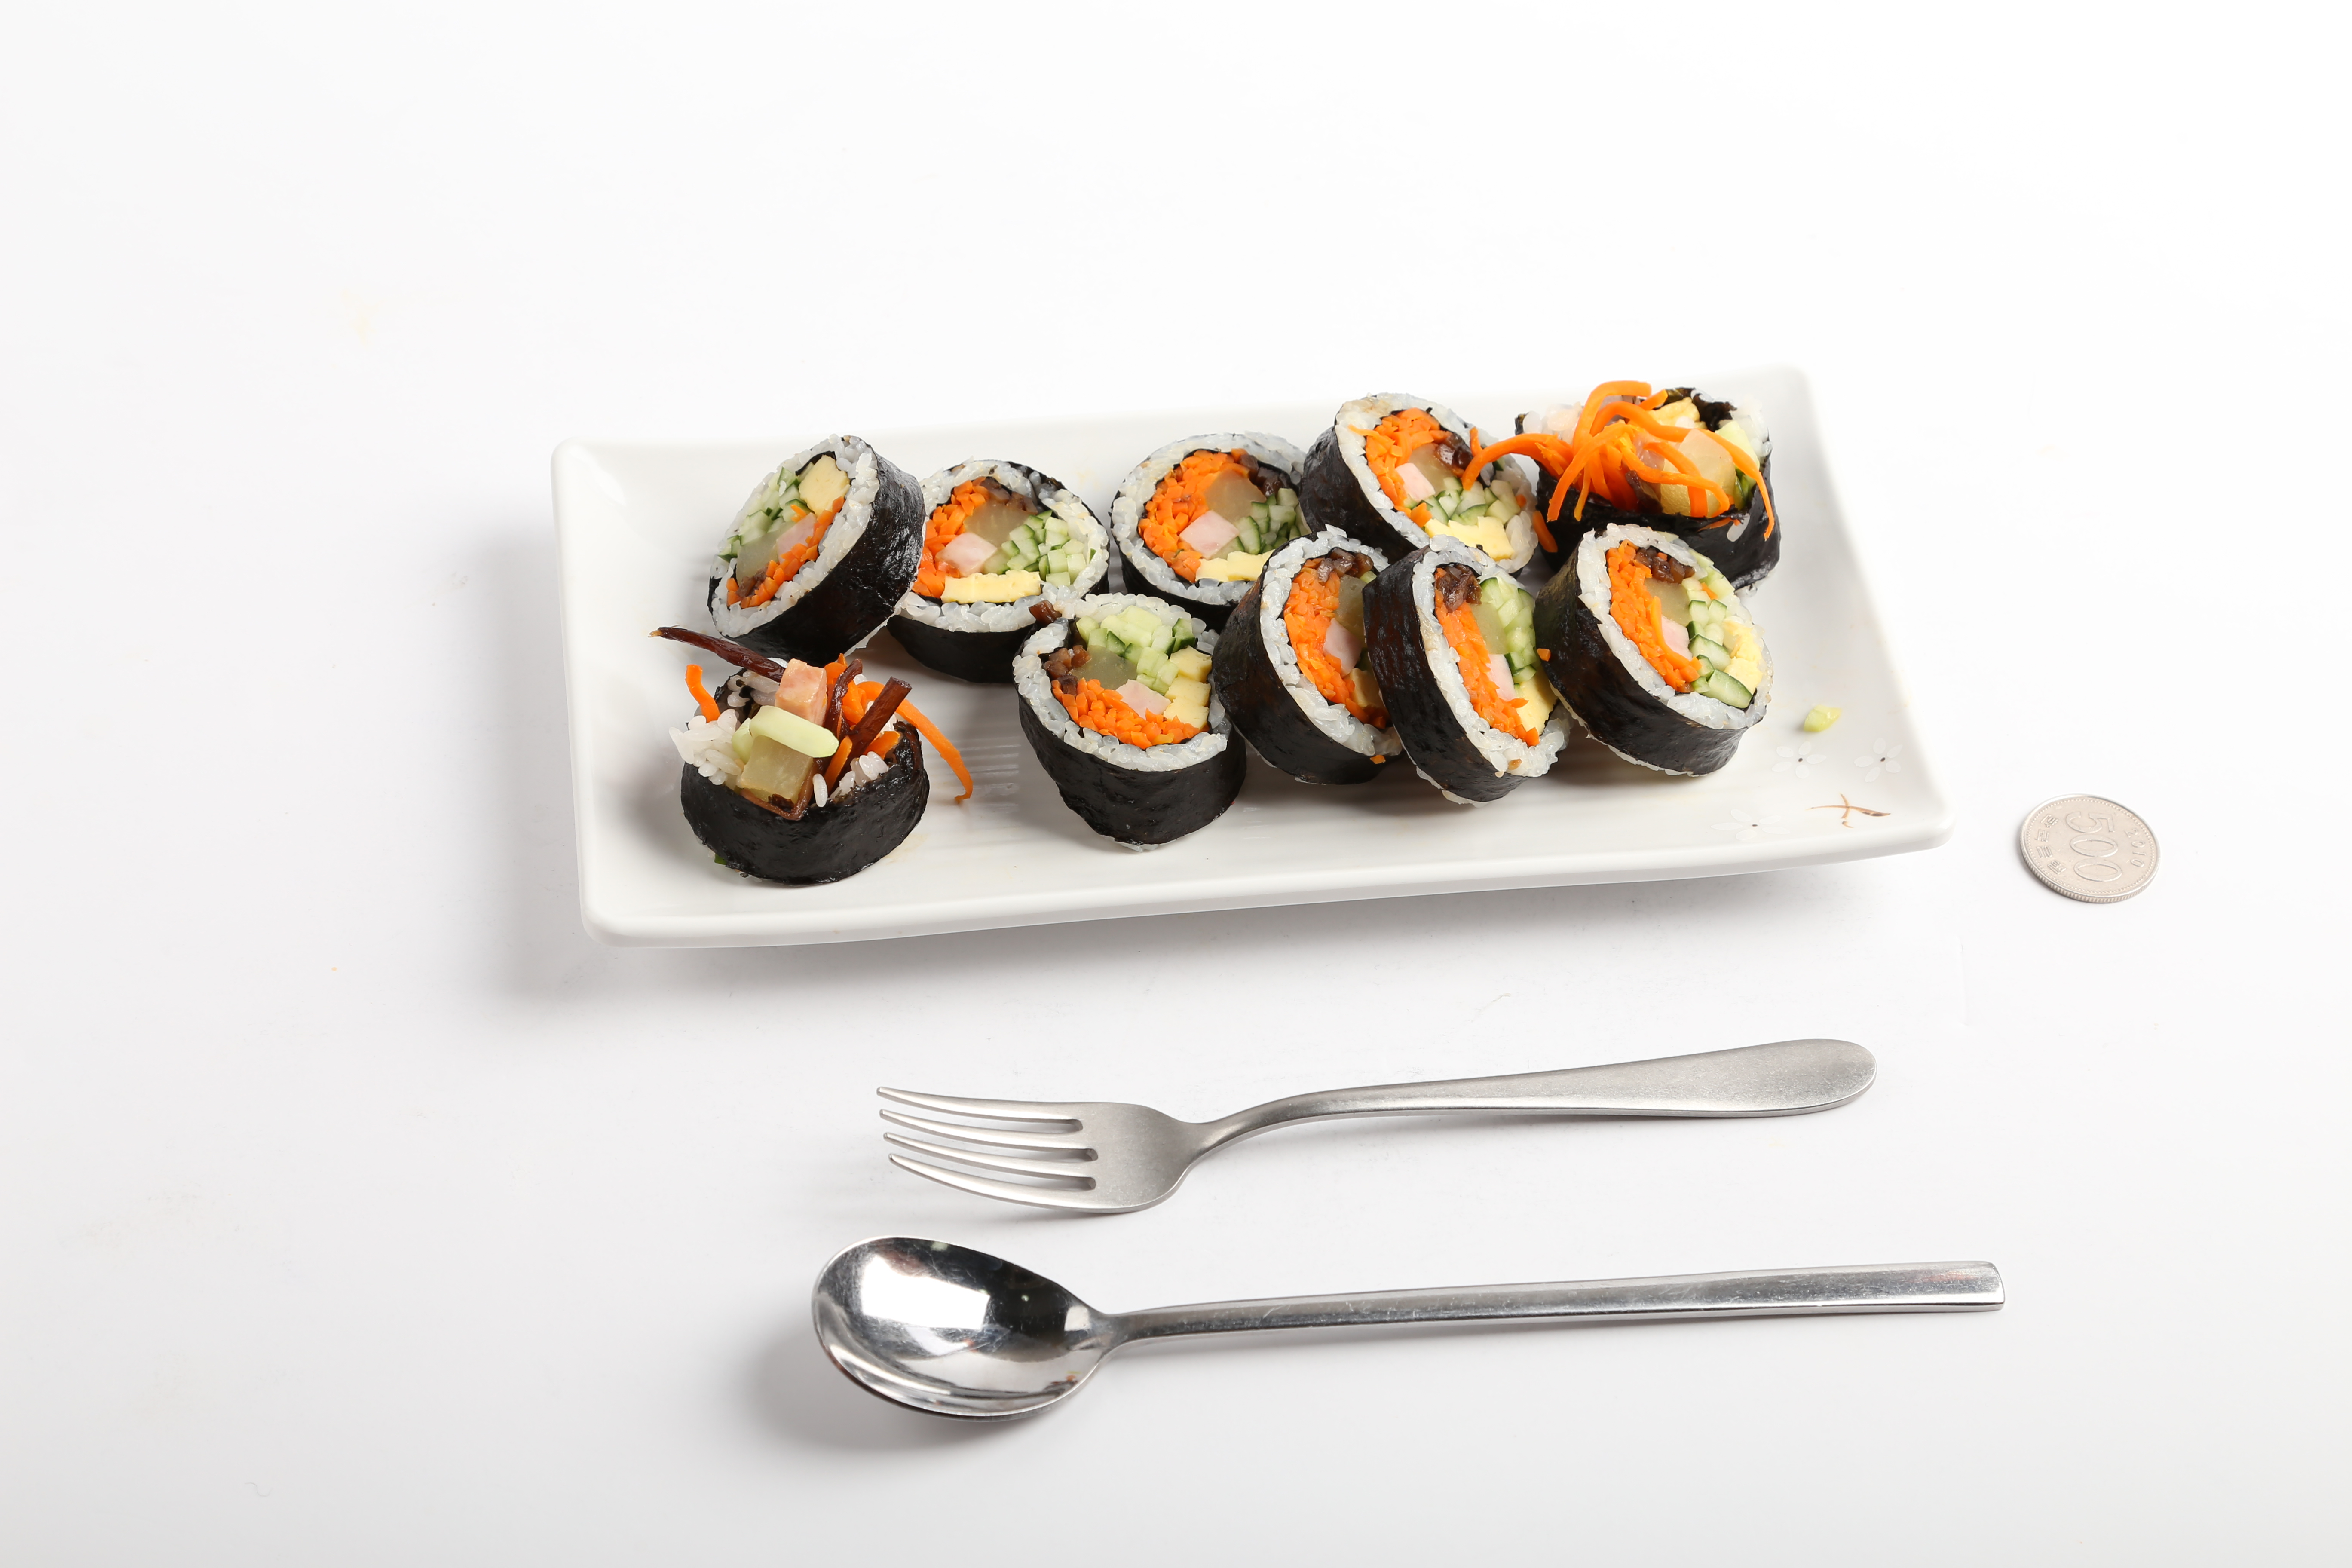dish: (551, 360, 1963, 952)
ref_coin: (2012, 787, 2163, 906)
ref_fork: (870, 1080, 1325, 1216)
ref_spoon: (803, 1230, 1199, 1423)
김밥: (674, 381, 1780, 891)
